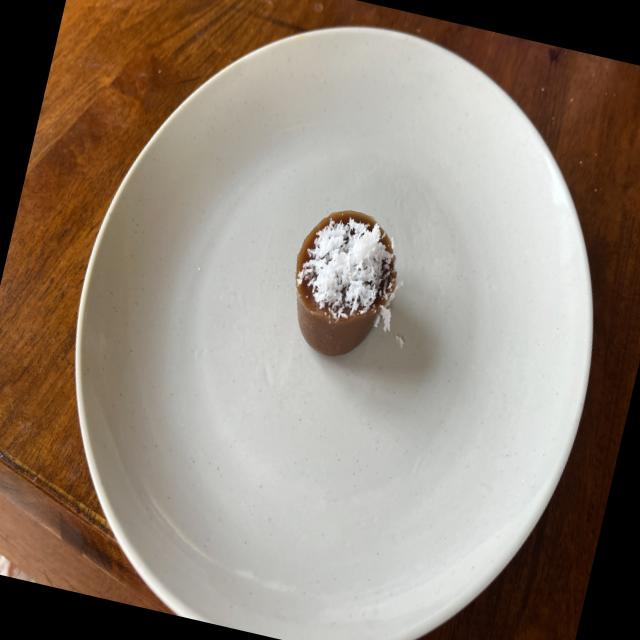Kuih lompang: (295, 210, 396, 356)
